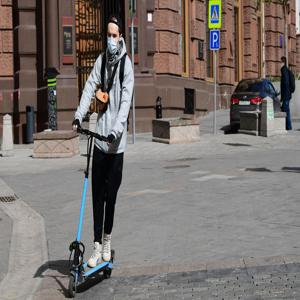human on a scooter: (66, 13, 135, 298)
